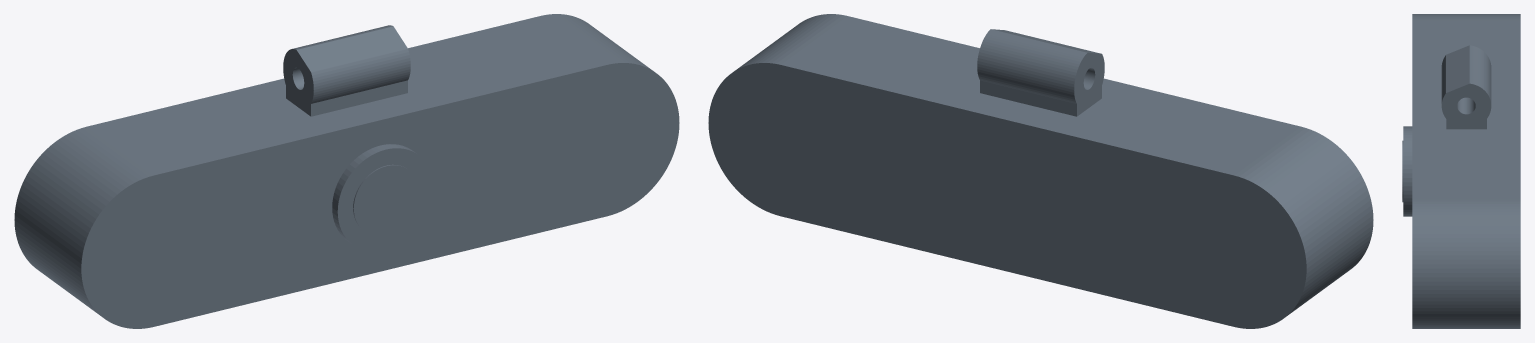
File: camera_visual.glb
The picture shows the model from 3 angles, left to right: view 1: azimuth 30°, elevation 25°; view 2: azimuth 150°, elevation 25°; view 3: azimuth 270°, elevation 25°; orthographic projection. The views are drawn at different scales.
Parts seen in each view (by area): view 1: camera_in_mount_frame_mm.stl; view 2: camera_in_mount_frame_mm.stl; view 3: camera_in_mount_frame_mm.stl.
Boxes of the visible parts, x1,y1,x2,y2 form: camera_in_mount_frame_mm.stl: (14,14,679,328); camera_in_mount_frame_mm.stl: (708,14,1373,328); camera_in_mount_frame_mm.stl: (1402,14,1520,328).
Bounding box in the file's own units: 0.124 × 0.0411 × 0.0262.
